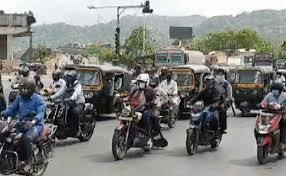helmet: (18, 77, 36, 98), (64, 71, 79, 88), (203, 74, 217, 91), (136, 73, 150, 89), (270, 80, 283, 96), (149, 74, 160, 89), (18, 66, 30, 78), (52, 69, 62, 82)
